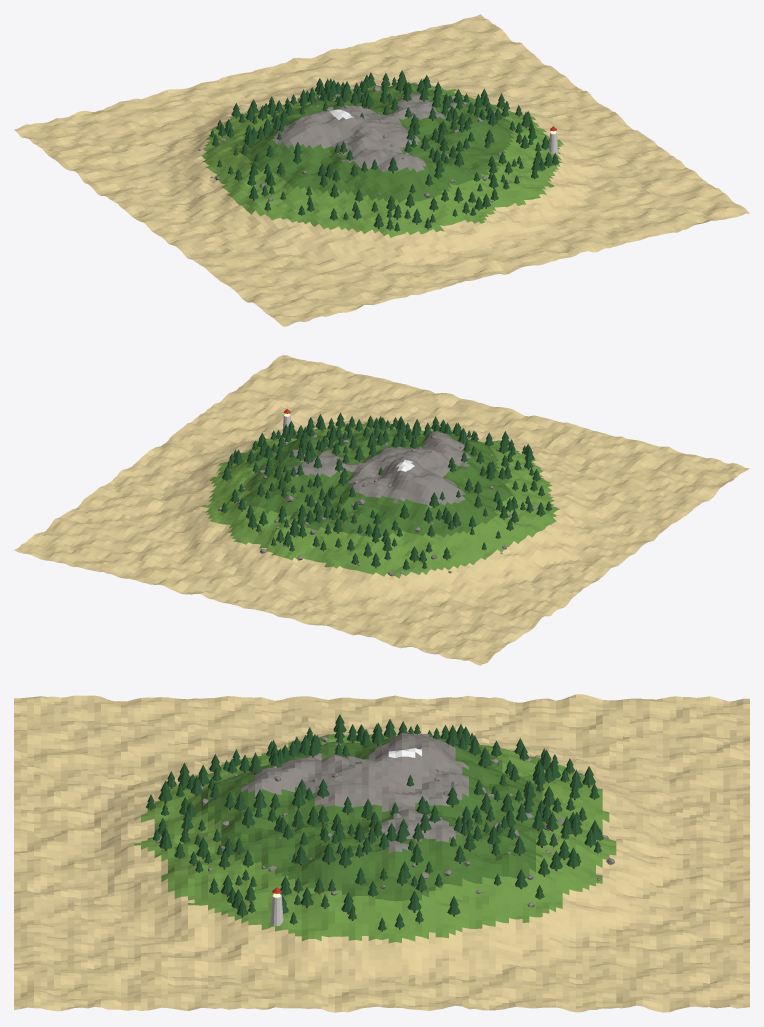
The model's file is world.glb.
The picture shows the model from 3 angles, top to bottom: view 1: azimuth 30°, elevation 25°; view 2: azimuth 150°, elevation 25°; view 3: azimuth 270°, elevation 25°; orthographic projection. The views are drawn at different scales.
Parts seen in each view (by area): view 1: Island; view 2: Island; view 3: Island.
Part boxes in pixels (x1,y1,x2,y2): Island: (14,14,749,326); Island: (14,355,749,665); Island: (14,694,749,1012).
Size of the model in its own units: 220 by 29.18 by 220.
